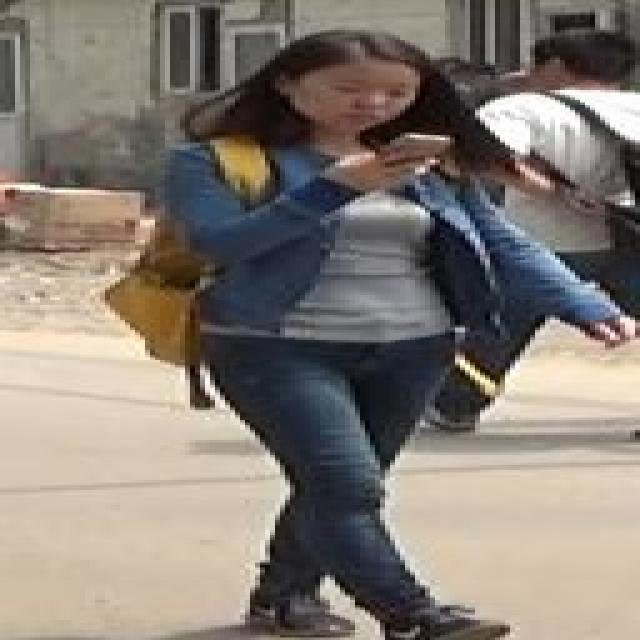adult: (111, 42, 577, 639), (432, 43, 640, 417)
